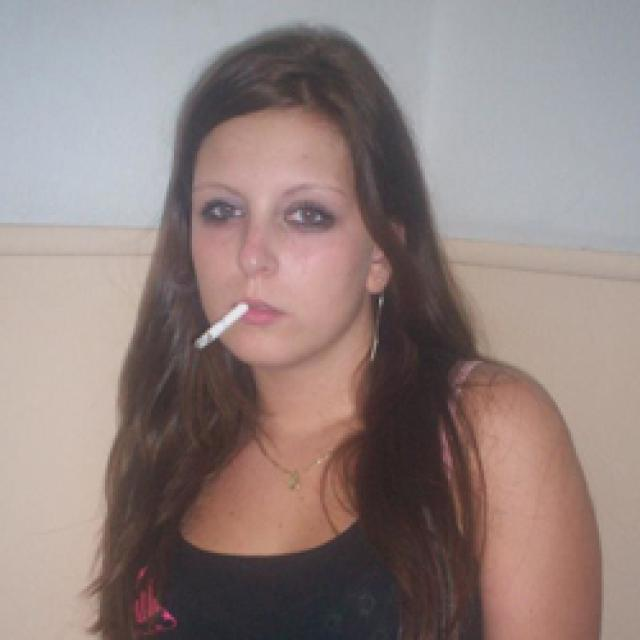Smooking: (192, 296, 254, 353)
